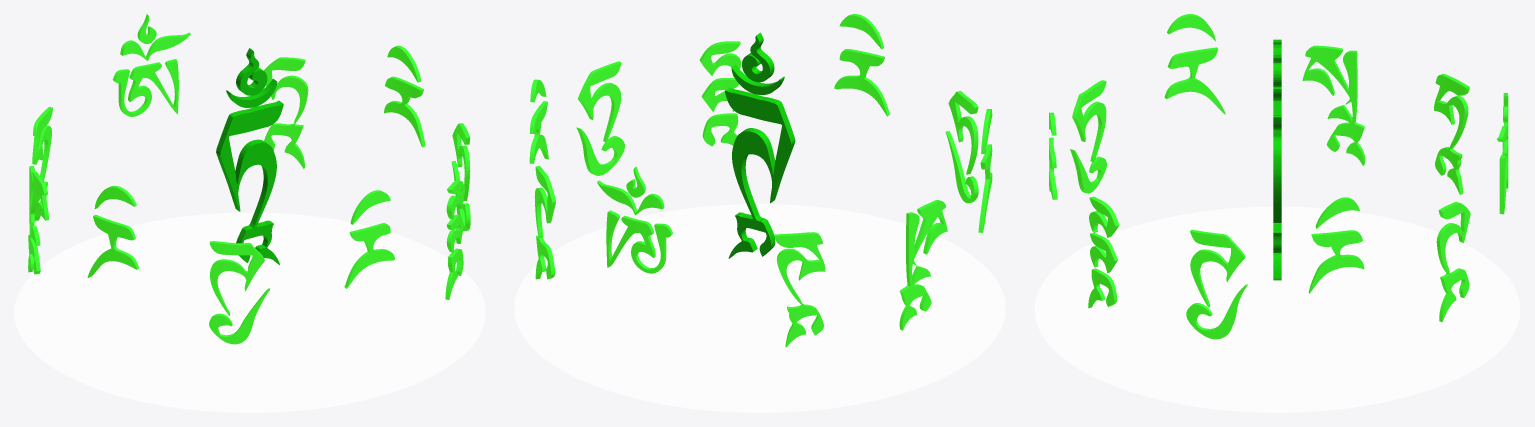
File: green-tara-mantra.glb
3 renders of one model, left to right at view 1: azimuth 30°, elevation 25°; view 2: azimuth 150°, elevation 25°; view 3: azimuth 270°, elevation 25°, orthographic. The views are drawn at different scales.
Parts seen in each view (by area): view 1: PetalLowPoly:pSphere1, planarTrimmedSurface8, planarTrimmedSurface5, planarTrimmedSurface3, planarTrimmedSurface4, planarTrimmedSurface7; view 2: PetalLowPoly:pSphere1, planarTrimmedSurface8, planarTrimmedSurface5, planarTrimmedSurface3, planarTrimmedSurface7, planarTrimmedSurface4; view 3: PetalLowPoly:pSphere1, planarTrimmedSurface8, planarTrimmedSurface5, planarTrimmedSurface7, planarTrimmedSurface3.
Boxes of the visible parts, bbox=[...] form: PetalLowPoly:pSphere1: bbox=[14, 212, 485, 412]; planarTrimmedSurface8: bbox=[28, 14, 470, 344]; planarTrimmedSurface5: bbox=[216, 100, 283, 264]; planarTrimmedSurface3: bbox=[236, 48, 267, 95]; planarTrimmedSurface4: bbox=[226, 78, 277, 107]; planarTrimmedSurface7: bbox=[446, 180, 465, 218]; PetalLowPoly:pSphere1: bbox=[514, 204, 1005, 412]; planarTrimmedSurface8: bbox=[529, 14, 992, 347]; planarTrimmedSurface5: bbox=[724, 87, 795, 258]; planarTrimmedSurface3: bbox=[742, 32, 774, 82]; planarTrimmedSurface7: bbox=[699, 41, 741, 75]; planarTrimmedSurface4: bbox=[731, 64, 784, 94]; PetalLowPoly:pSphere1: bbox=[1034, 206, 1520, 412]; planarTrimmedSurface8: bbox=[1049, 14, 1508, 339]; planarTrimmedSurface5: bbox=[1273, 101, 1281, 280]; planarTrimmedSurface7: bbox=[1089, 196, 1119, 237]; planarTrimmedSurface3: bbox=[1273, 39, 1281, 87].
Bounding box in the file's own units: 5.43 × 3.48 × 5.43.
